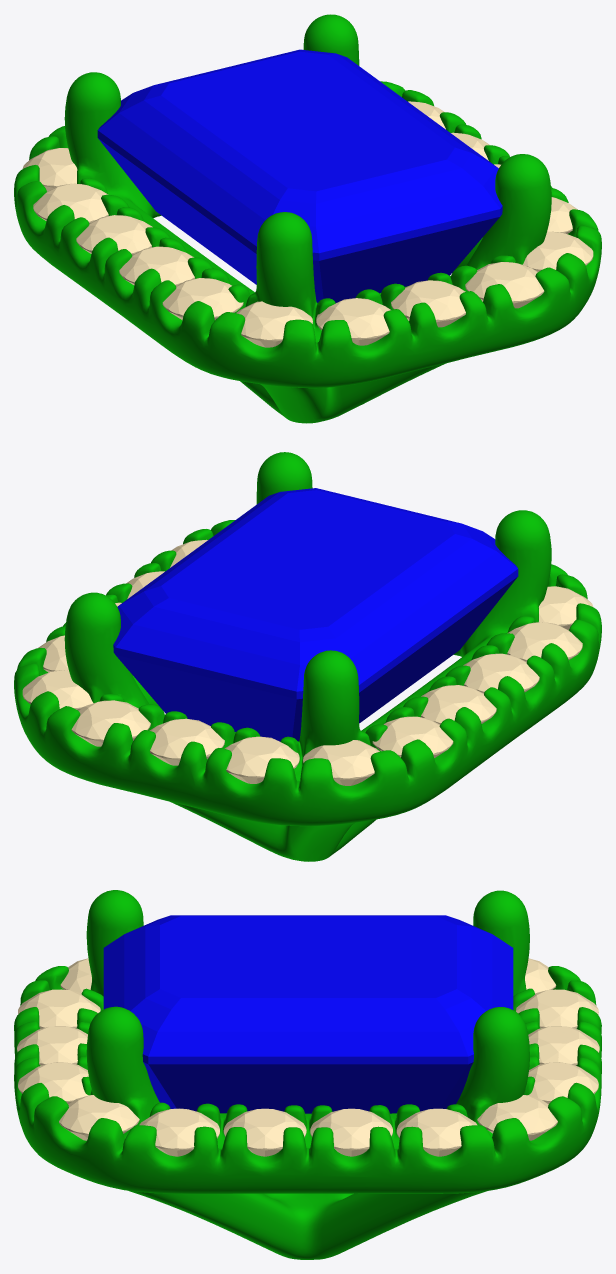
3 views of the same model, one above another, from view 1: azimuth 30°, elevation 25°; view 2: azimuth 150°, elevation 25°; view 3: azimuth 270°, elevation 25° (orthographic).
Visible parts, largest first — view 1: Diamond_Emerald, Metal01, Diamond_Round.001, Diamond_Round.003, Diamond_Round.002, Diamond_Round.017, Diamond_Round, Diamond_Round.015, Diamond_Round.016, Diamond_Round.014, Diamond_Round.004, Diamond_Round.013 (+1 smaller); view 2: Diamond_Emerald, Metal01, Diamond_Round.010, Diamond_Round.012, Diamond_Round.011, Diamond_Round.013, Diamond_Round.014, Diamond_Round.016, Diamond_Round.015, Diamond_Round.017, Diamond_Round.009, Diamond_Round (+1 smaller); view 3: Metal01, Diamond_Emerald, Diamond_Round.006, Diamond_Round.007, Diamond_Round.005, Diamond_Round.008, Diamond_Round.004, Diamond_Round.009, Diamond_Round.012, Diamond_Round.001, Diamond_Round.010, Diamond_Round.003 (+4 smaller).
Boxes of the visible parts, box(x1,y1,x2,y2) form: Diamond_Emerald: box(97, 49, 502, 302); Metal01: box(14, 14, 601, 423); Diamond_Round.001: box(316, 298, 390, 345); Diamond_Round.003: box(465, 262, 544, 308); Diamond_Round.002: box(391, 280, 465, 327); Diamond_Round.017: box(162, 278, 243, 320); Diamond_Round: box(236, 301, 312, 347); Diamond_Round.015: box(76, 215, 152, 254); Diamond_Round.016: box(119, 246, 194, 285); Diamond_Round.014: box(33, 183, 108, 223); Diamond_Round.004: box(522, 231, 593, 271); Diamond_Round.013: box(22, 148, 77, 191); Diamond_Emerald: box(113, 488, 518, 741); Metal01: box(14, 452, 601, 861); Diamond_Round.010: box(71, 700, 150, 746); Diamond_Round.012: box(224, 736, 299, 783); Diamond_Round.011: box(149, 718, 224, 765); Diamond_Round.013: box(303, 740, 379, 785); Diamond_Round.014: box(372, 716, 453, 757); Diamond_Round.016: box(463, 653, 539, 693); Diamond_Round.015: box(421, 685, 496, 724); Diamond_Round.017: box(507, 622, 582, 661); Diamond_Round.009: box(22, 670, 93, 710); Diamond_Round: box(539, 586, 593, 629); Metal01: box(14, 890, 601, 1259); Diamond_Emerald: box(103, 915, 513, 1113); Diamond_Round.006: box(223, 1108, 306, 1156); Diamond_Round.007: box(310, 1108, 392, 1156); Diamond_Round.005: box(139, 1108, 219, 1156); Diamond_Round.008: box(396, 1108, 477, 1156); Diamond_Round.004: box(59, 1095, 139, 1140); Diamond_Round.009: box(477, 1095, 557, 1140); Diamond_Round.012: box(516, 989, 598, 1028); Diamond_Round.001: box(18, 989, 100, 1028); Diamond_Round.010: box(528, 1062, 598, 1104); Diamond_Round.003: box(18, 1062, 88, 1104).
Size of the model in its own units: 9.91 by 6.81 by 12.08.
